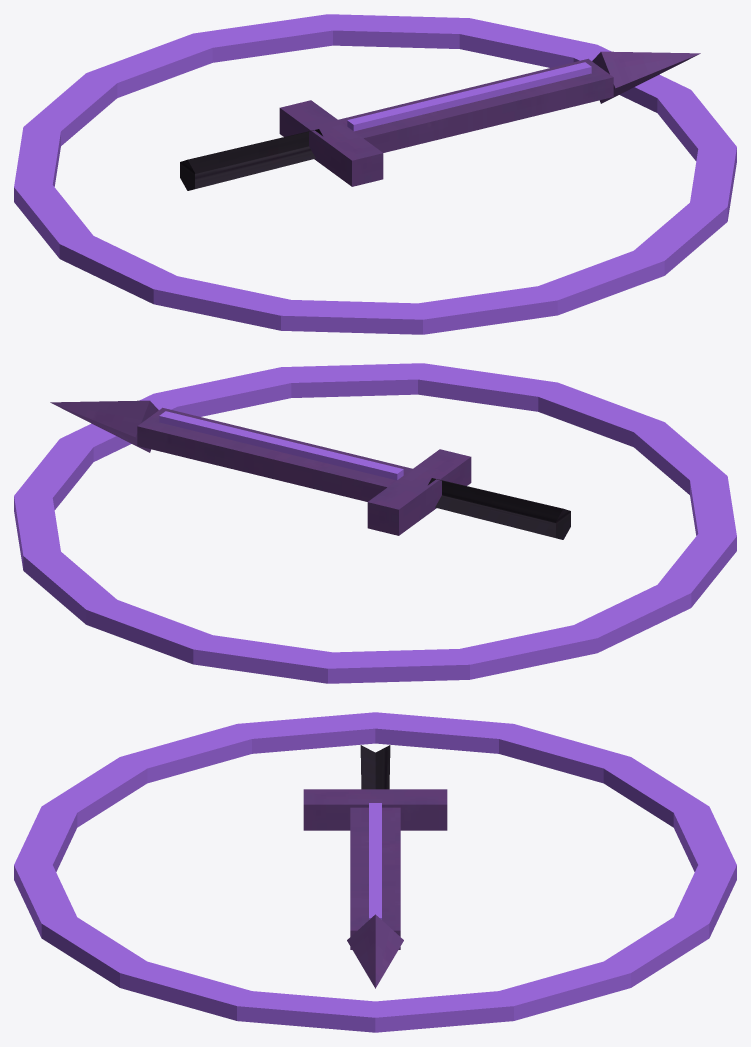
The model's file is loot_dagger_g2.glb.
The picture shows the model from 3 angles, top to bottom: view 1: azimuth 30°, elevation 25°; view 2: azimuth 150°, elevation 25°; view 3: azimuth 270°, elevation 25°; orthographic projection.
Parts seen in each view (by area): view 1: loot_dagger_g2; view 2: loot_dagger_g2; view 3: loot_dagger_g2.
Part boxes in pixels (x1,y1,x2,y2): loot_dagger_g2: (14, 14, 736, 334); loot_dagger_g2: (14, 363, 736, 683); loot_dagger_g2: (14, 712, 736, 1032).
Size of the model in its own units: 1.02 by 0.115 by 1.01.
Materials: 3 (2 with a texture image).
